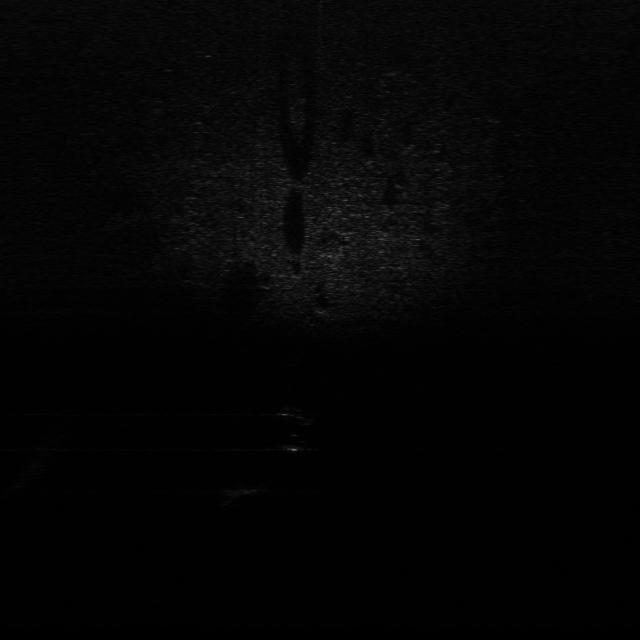ball: (277, 433, 313, 454)
square cage: (221, 479, 273, 496)
tyre: (272, 402, 316, 427)
